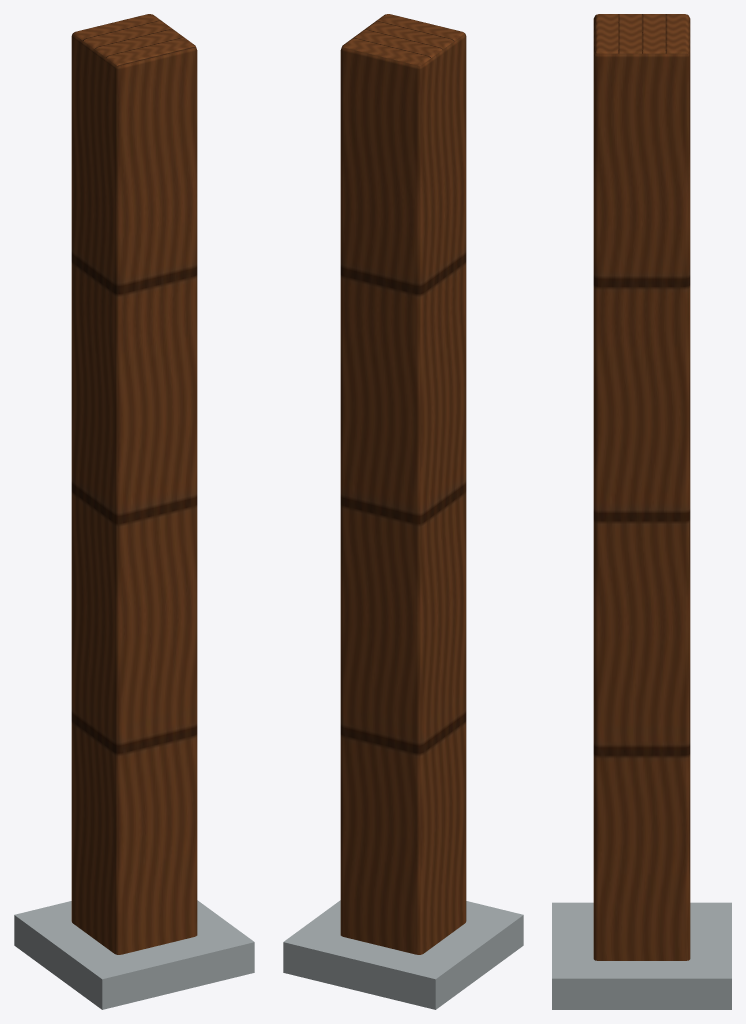
File: modular-survival-base-builder-square-post-528abfd1__24214.glb
The picture shows the model from 3 angles, left to right: view 1: azimuth 30°, elevation 25°; view 2: azimuth 150°, elevation 25°; view 3: azimuth 270°, elevation 25°; orthographic projection. The views are drawn at different scales.
Visible parts, largest first — view 1: square-post; view 2: square-post; view 3: square-post.
Boxes of the visible parts, x1=… form: square-post: x1=14, y1=14, x2=254, y2=1009; square-post: x1=283, y1=14, x2=523, y2=1009; square-post: x1=552, y1=14, x2=731, y2=1009.
Bounding box in the file's own units: 0.416 × 2.4 × 0.416.
2 materials, 1 textured.
